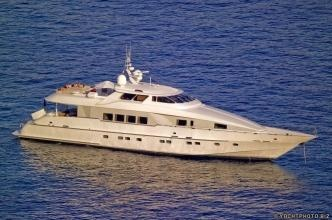yacht: (7, 65, 315, 157)
